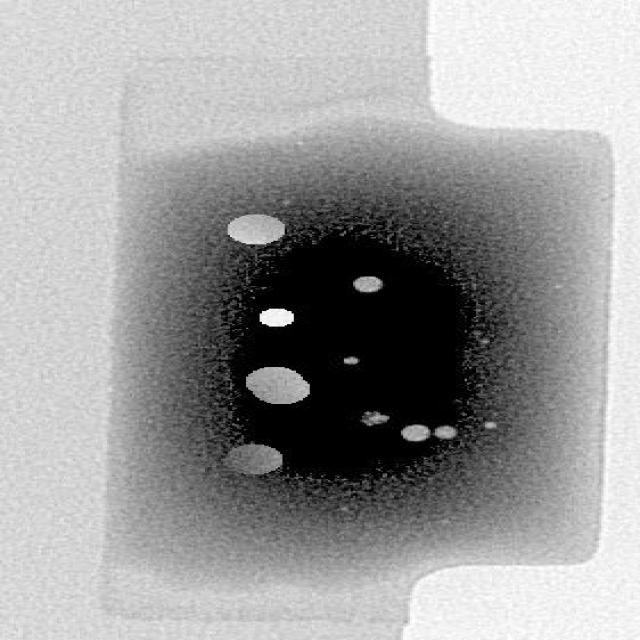component: (112, 55, 615, 624)
void: (246, 368, 310, 405), (223, 446, 282, 475), (228, 215, 285, 245), (260, 309, 294, 328), (401, 425, 433, 443), (353, 276, 383, 293), (360, 412, 392, 427), (433, 427, 458, 440), (342, 358, 358, 366), (485, 422, 499, 430)
